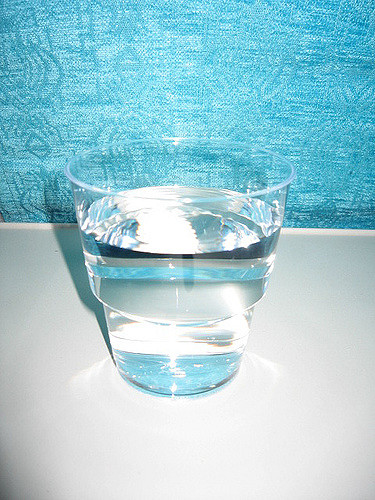glass of water: (62, 136, 304, 410)
